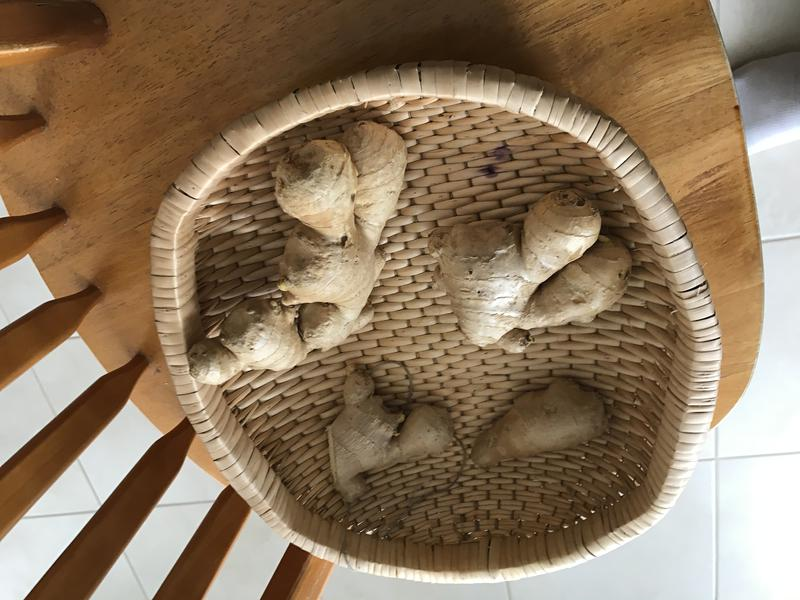ginger: (169, 113, 421, 384), (429, 186, 638, 361), (319, 368, 460, 497), (470, 371, 613, 472)
